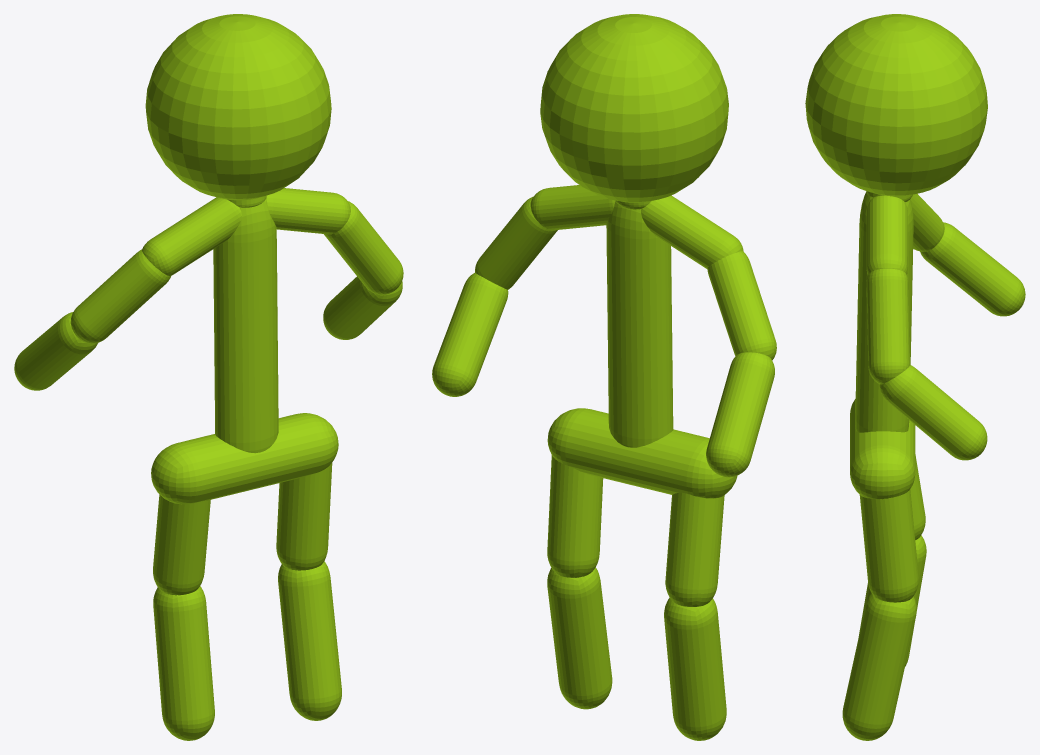
File: Stickman_000010.obj
The picture shows the model from 3 angles, left to right: view 1: azimuth 30°, elevation 25°; view 2: azimuth 150°, elevation 25°; view 3: azimuth 270°, elevation 25°; orthographic projection. The views are drawn at different scales.
Parts seen in each view (by area): view 1: Head_Sphere.001, Body_Roundcube.002, Hip_Roundcube.005, LowerLegLeft_Roundcube.013, LowerLegRight_Roundcube.011, UpperLegLeft_Roundcube.012, UpperLegRight_Roundcube.010, UpperArmRight_Roundcube.015, ShoulderRight_Roundcube.014, UpperArmLeft_Roundcube.018, LowerArmRight_Roundcube.016, ShoulderLeft_Roundcube.017 (+1 smaller); view 2: Head_Sphere.001, Body_Roundcube.002, Hip_Roundcube.005, LowerLegRight_Roundcube.011, LowerLegLeft_Roundcube.013, UpperLegRight_Roundcube.010, UpperLegLeft_Roundcube.012, LowerArmRight_Roundcube.016, LowerArmLeft_Roundcube.019, UpperArmRight_Roundcube.015, ShoulderRight_Roundcube.014, UpperArmLeft_Roundcube.018 (+1 smaller); view 3: Head_Sphere.001, LowerLegLeft_Roundcube.013, UpperLegLeft_Roundcube.012, LowerArmLeft_Roundcube.019, LowerArmRight_Roundcube.016, Body_Roundcube.002, UpperArmLeft_Roundcube.018, Hip_Roundcube.005, ShoulderLeft_Roundcube.017, UpperArmRight_Roundcube.015, UpperLegRight_Roundcube.010, LowerLegRight_Roundcube.011.
Part boxes in pixels (bbox=[...]): Head_Sphere.001: bbox=[145, 14, 331, 200]; Body_Roundcube.002: bbox=[213, 198, 278, 453]; Hip_Roundcube.005: bbox=[151, 413, 338, 504]; LowerLegLeft_Roundcube.013: bbox=[278, 561, 341, 720]; LowerLegRight_Roundcube.011: bbox=[153, 586, 214, 740]; UpperLegLeft_Roundcube.012: bbox=[276, 463, 332, 570]; UpperLegRight_Roundcube.010: bbox=[153, 494, 210, 595]; UpperArmRight_Roundcube.015: bbox=[70, 249, 170, 343]; ShoulderRight_Roundcube.014: bbox=[142, 197, 241, 275]; UpperArmLeft_Roundcube.018: bbox=[324, 201, 403, 294]; LowerArmRight_Roundcube.016: bbox=[14, 312, 97, 390]; ShoulderLeft_Roundcube.017: bbox=[266, 188, 350, 234]; Head_Sphere.001: bbox=[540, 14, 728, 202]; Body_Roundcube.002: bbox=[606, 201, 673, 447]; Hip_Roundcube.005: bbox=[547, 408, 737, 498]; LowerLegRight_Roundcube.011: bbox=[664, 598, 726, 740]; LowerLegLeft_Roundcube.013: bbox=[547, 567, 612, 709]; UpperLegRight_Roundcube.010: bbox=[665, 492, 724, 606]; UpperLegLeft_Roundcube.012: bbox=[547, 455, 603, 577]; LowerArmRight_Roundcube.016: bbox=[706, 352, 774, 477]; LowerArmLeft_Roundcube.019: bbox=[432, 273, 508, 396]; UpperArmRight_Roundcube.015: bbox=[707, 251, 776, 360]; ShoulderRight_Roundcube.014: bbox=[641, 195, 743, 269]; UpperArmLeft_Roundcube.018: bbox=[475, 196, 557, 289]; Head_Sphere.001: bbox=[805, 14, 987, 196]; LowerLegLeft_Roundcube.013: bbox=[842, 593, 916, 740]; UpperLegLeft_Roundcube.012: bbox=[859, 489, 918, 602]; LowerArmLeft_Roundcube.019: bbox=[879, 365, 987, 460]; LowerArmRight_Roundcube.016: bbox=[920, 222, 1025, 316]; Body_Roundcube.002: bbox=[855, 192, 913, 432]; UpperArmLeft_Roundcube.018: bbox=[866, 268, 910, 384]; Hip_Roundcube.005: bbox=[850, 399, 915, 499]; ShoulderLeft_Roundcube.017: bbox=[866, 195, 907, 274]; UpperArmRight_Roundcube.015: bbox=[910, 193, 944, 251]; UpperLegRight_Roundcube.010: bbox=[910, 454, 925, 539]; LowerLegRight_Roundcube.011: bbox=[858, 535, 926, 666].
Size of the model in its own units: 5.13 by 10.39 by 3.02.
